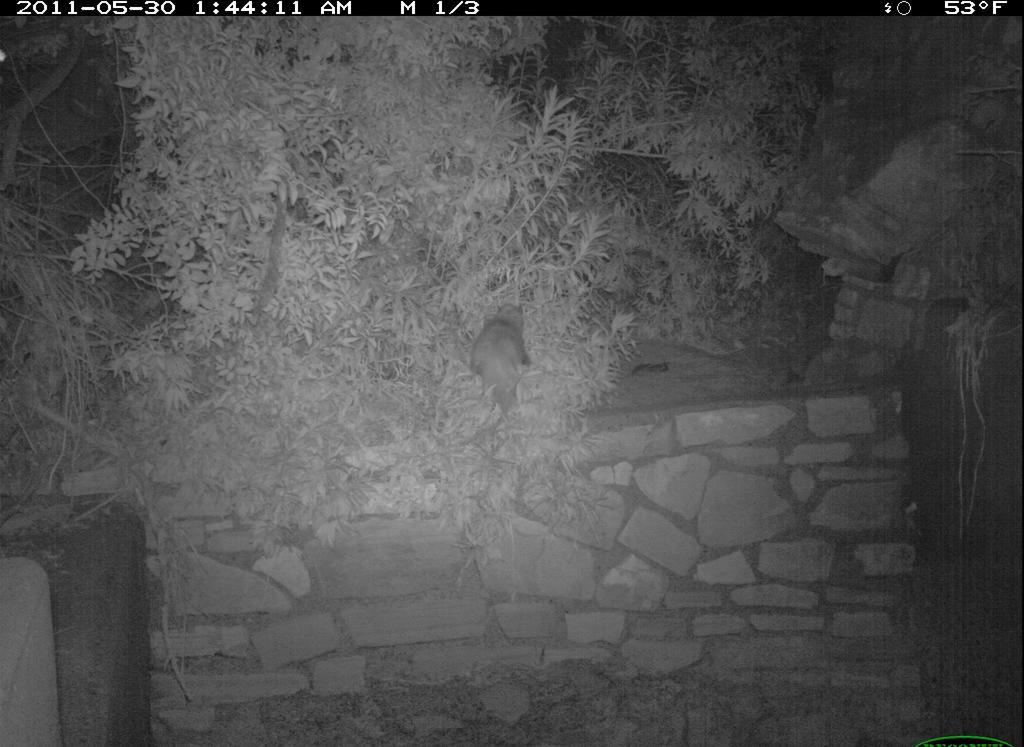opossum: (463, 286, 540, 446)
